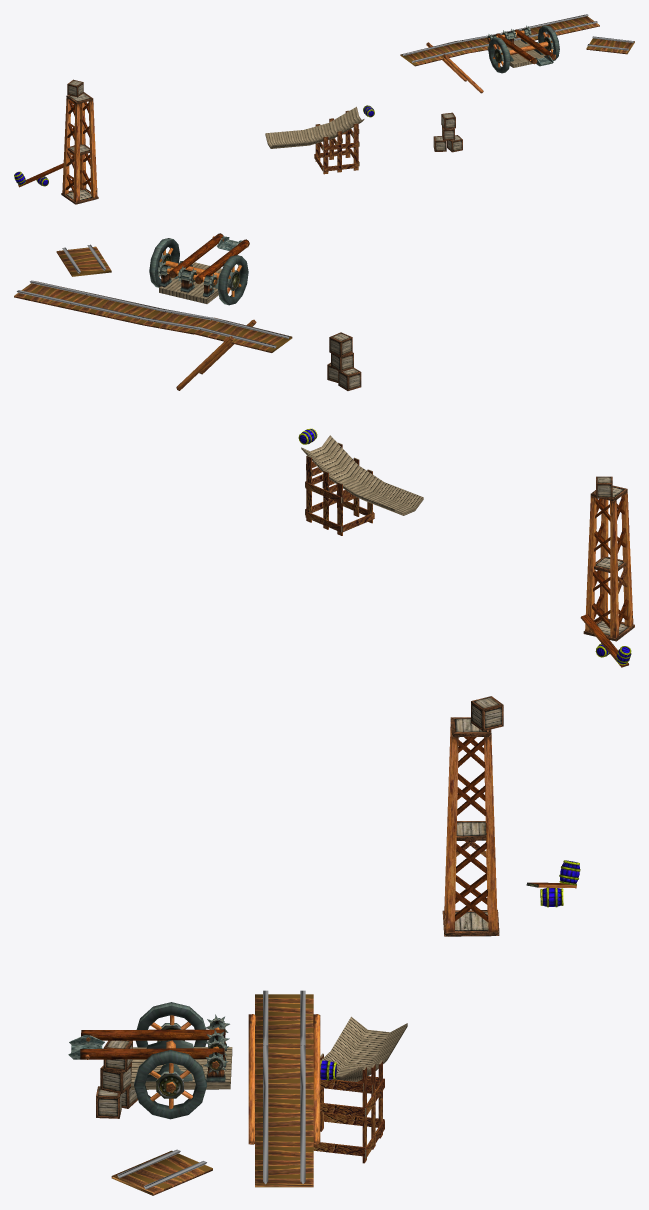
File: CONTRAPTION1.fbx
The picture shows the model from 3 angles, top to bottom: view 1: azimuth 30°, elevation 25°; view 2: azimuth 150°, elevation 25°; view 3: azimuth 270°, elevation 25°; orthographic projection. The views are drawn at different scales.
Visible parts, largest first — view 1: CONTRAPTION1; view 2: CONTRAPTION1; view 3: CONTRAPTION1.
Part boxes in pixels (bbox=[...]): CONTRAPTION1: bbox=[14, 14, 634, 204]; CONTRAPTION1: bbox=[14, 233, 634, 667]; CONTRAPTION1: bbox=[68, 696, 580, 1195].
Bounding box in the file's own units: 389960 × 93478 × 167622.
14 materials, 14 textured.
